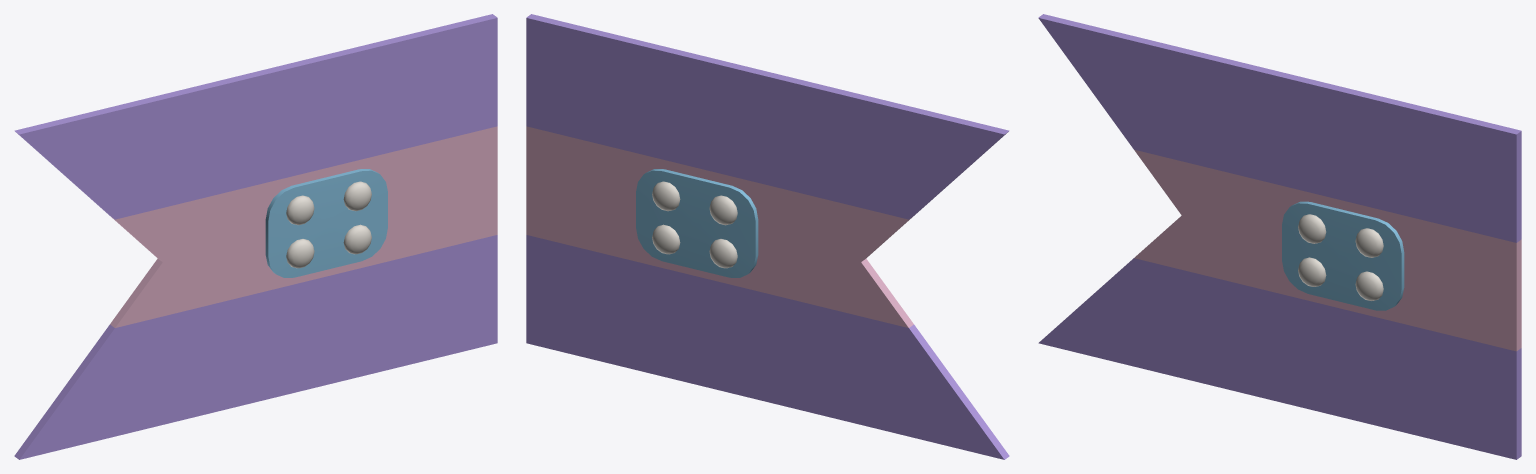
Rendered from Flag_Cloth_L.fbx.
3 renders of one model, left to right at view 1: azimuth 30°, elevation 25°; view 2: azimuth 150°, elevation 25°; view 3: azimuth 330°, elevation 25°, orthographic.
Visible parts, largest first — view 1: Flag_Cloth_L; view 2: Flag_Cloth_L; view 3: Flag_Cloth_L.
Part boxes in pixels (left/top/right/bottom): Flag_Cloth_L: left=14, top=14, right=497, bottom=459; Flag_Cloth_L: left=526, top=14, right=1009, bottom=459; Flag_Cloth_L: left=1038, top=14, right=1521, bottom=459.
Size of the model in its own units: 0.32 by 0.208 by 0.0237.
